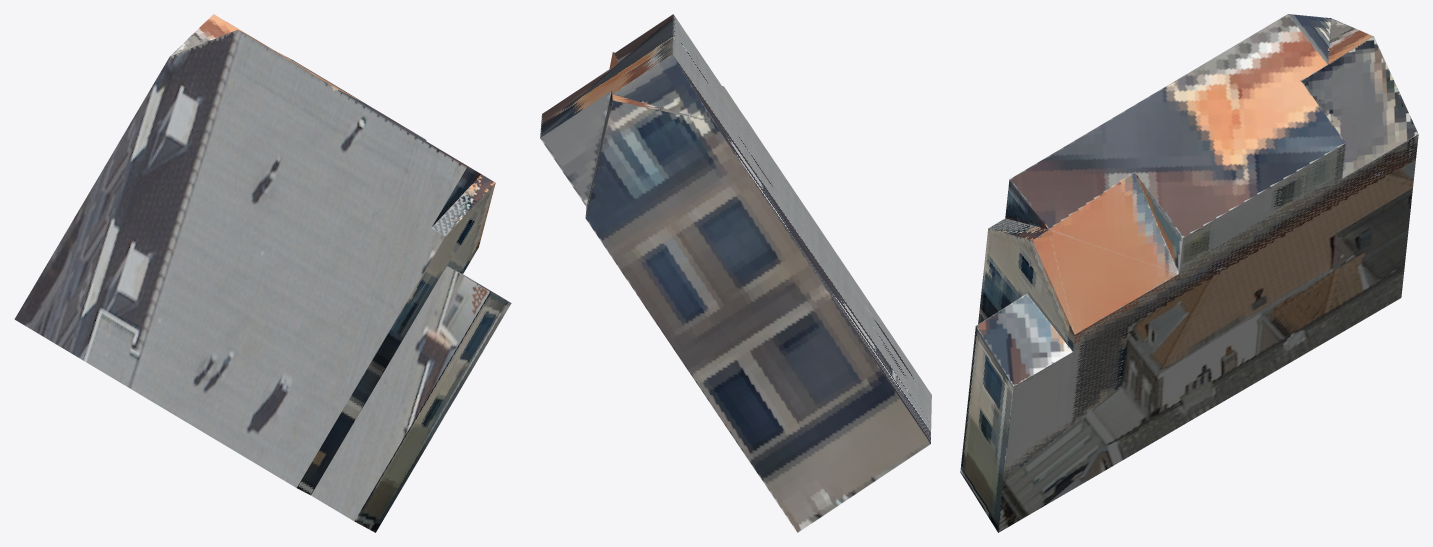
3 renders of one model, left to right at view 1: azimuth 30°, elevation 25°; view 2: azimuth 150°, elevation 25°; view 3: azimuth 270°, elevation 25°, orthographic. The views are drawn at different scales.
Parts seen in each view (by area): view 1: BAG_0599100000194804 (×3); view 2: BAG_0599100000194804 (×2); view 3: BAG_0599100000194804 (×4).
Boxes of the visible parts, <box> form: BAG_0599100000194804 (×3): <box>14,14,511,532</box>; BAG_0599100000194804 (×2): <box>540,14,931,532</box>; BAG_0599100000194804 (×4): <box>960,14,1418,532</box>.
Bounding box in the file's own units: 13.77 × 14.81 × 12.1.
1 material, 1 textured.
